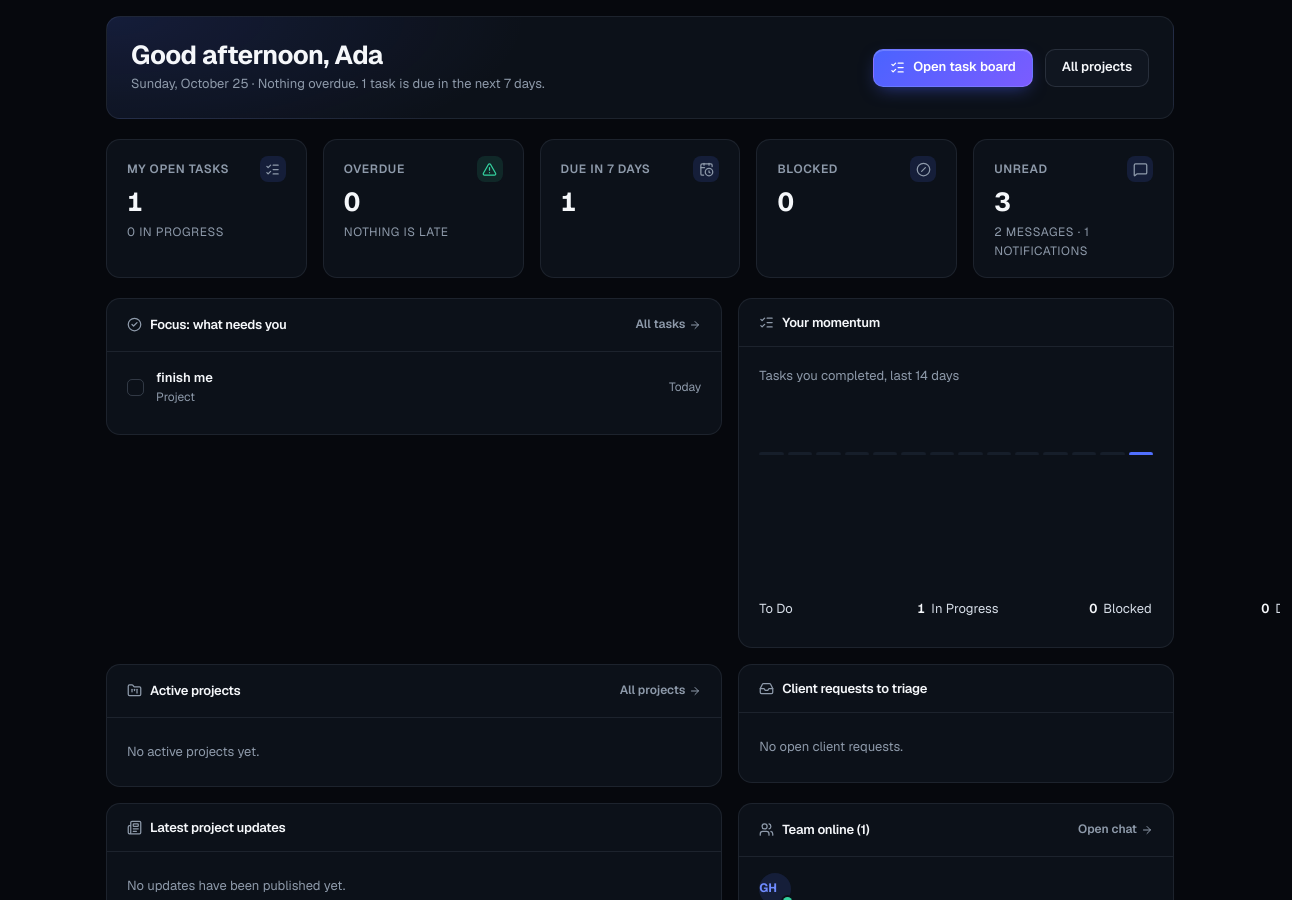
Test: Worker overview › marking a task done removes it immediately and tells the database
Click the button named "mark \"finish me\" done" at (136,388), box left=127, top=379, right=144, bottom=396
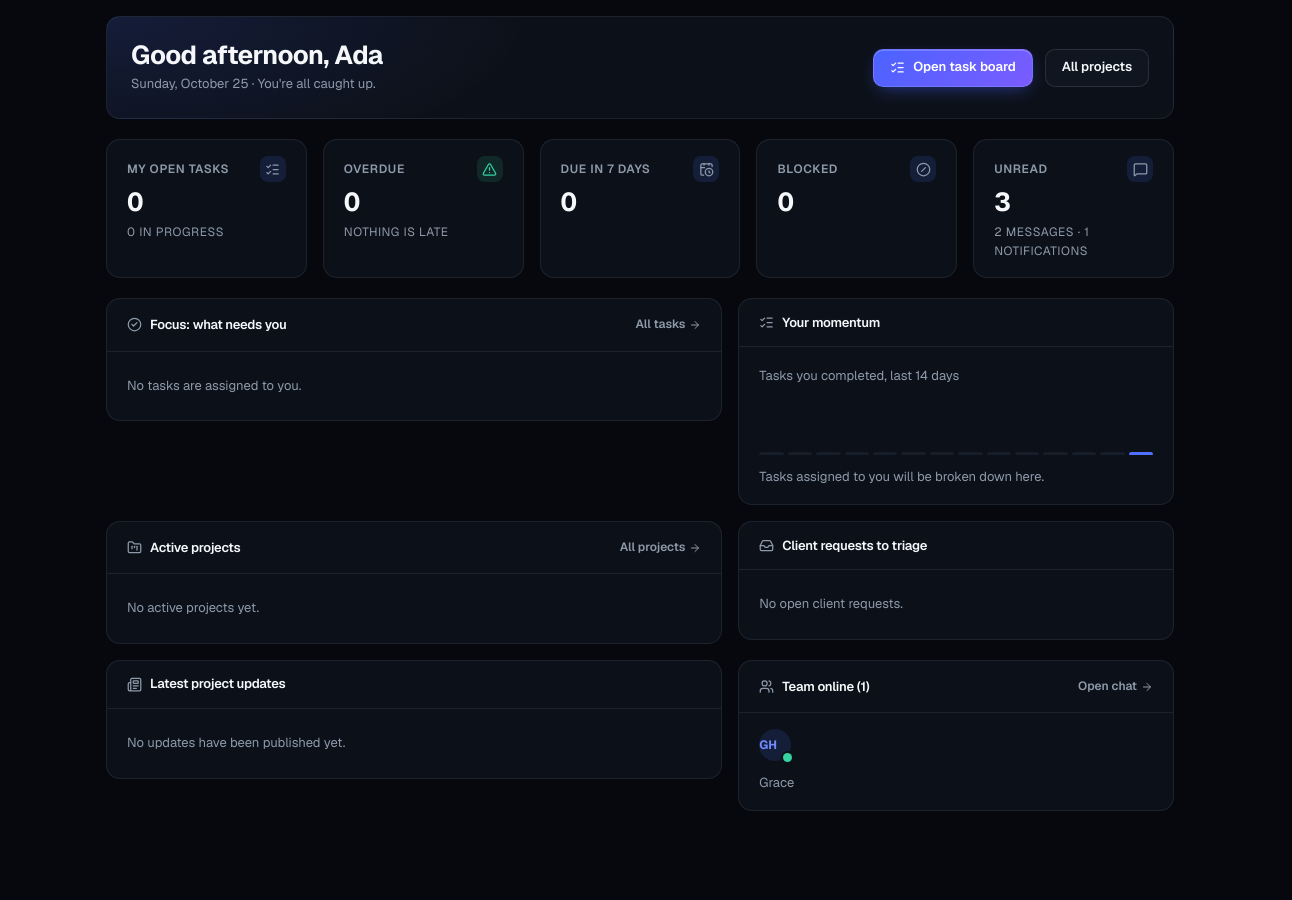
Check: the link "finish me" is gone
